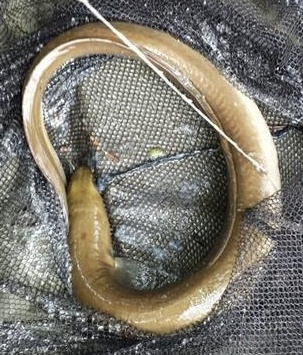Anguilla anguilla: (20, 20, 283, 335)
